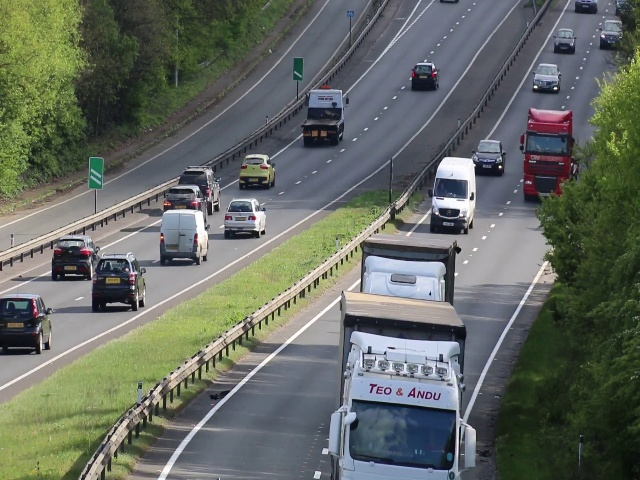car: (327, 358, 481, 480), (527, 114, 565, 203), (432, 155, 476, 231), (1, 294, 52, 359), (95, 254, 149, 309), (159, 212, 209, 264), (303, 84, 344, 145), (50, 235, 97, 277), (223, 198, 269, 235), (182, 166, 221, 209), (161, 185, 206, 217), (238, 151, 276, 187), (475, 138, 503, 178), (411, 60, 440, 93), (601, 14, 624, 48), (533, 60, 559, 90), (555, 27, 577, 49)
